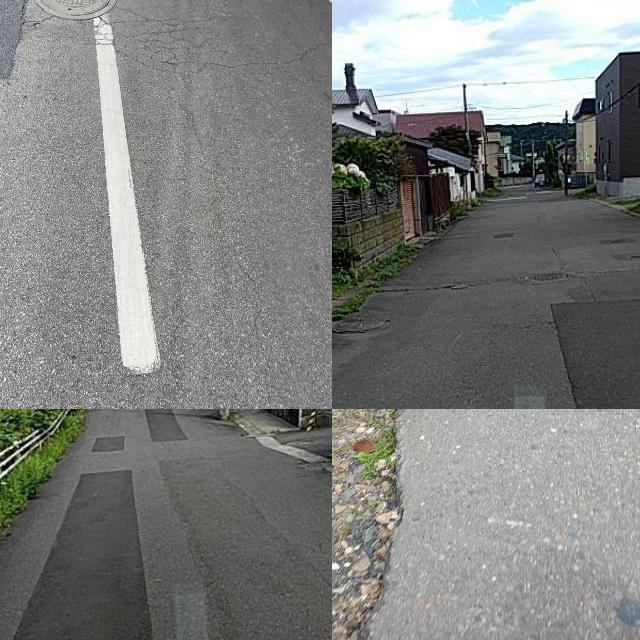Pinggir: (332, 409, 451, 640)
Sambungan: (13, 470, 156, 640), (145, 409, 188, 443), (93, 435, 127, 453)
